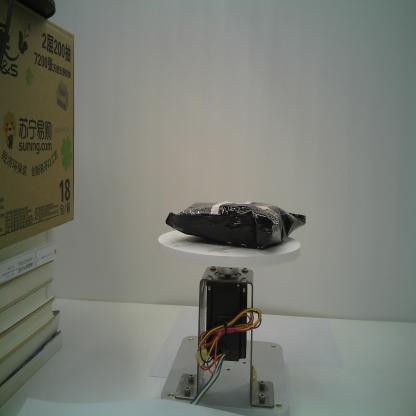Instant Noodles: (161, 198, 307, 253)
